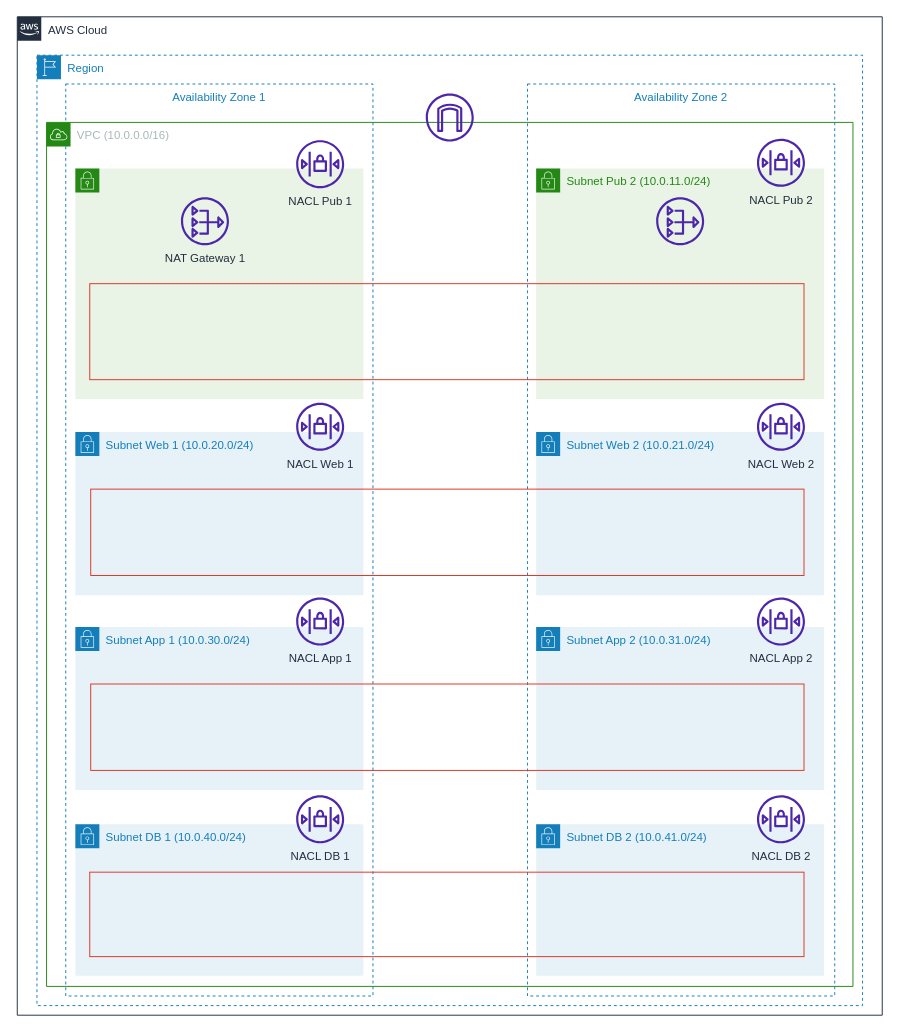
Some shapes in this 899 by 1032 pixel diagram are drawn without their labels. The shapes that lost their labels are listed below. From the top down, each one's box as (x1, y1, x2, y2) in pixels, then its label:
(425, 93, 473, 141): IGW
(656, 197, 704, 245): NAT Gateway 2
(74, 168, 363, 399): Subnet Pub 1 (10.0.10.0/24)
(89, 283, 804, 380): Security Group Pub
(90, 488, 804, 576): Security Group Web
(90, 683, 804, 770): Security Group App
(89, 871, 804, 957): Security Group DB
